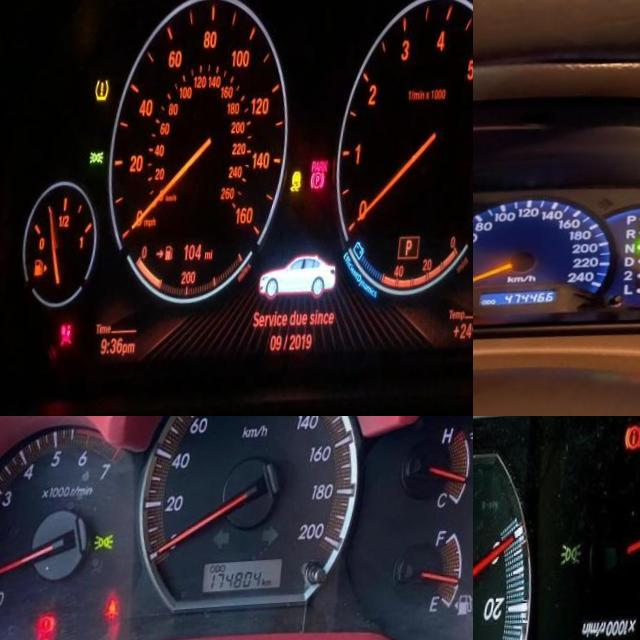Seat Belt: (112, 600, 126, 624)
